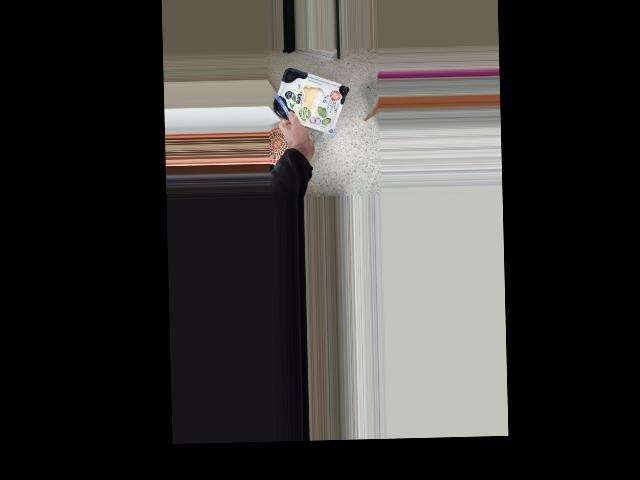cheese: (281, 79, 342, 128)
